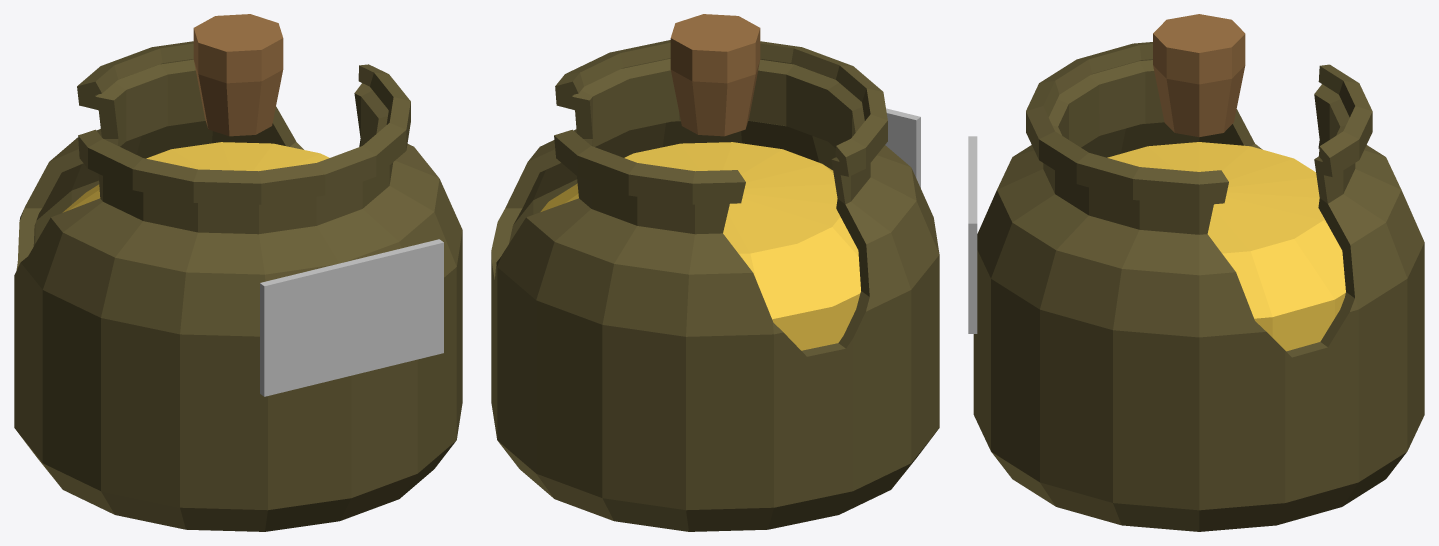
File: dry_ether.obj
3 renders of one model, left to right at view 1: azimuth 30°, elevation 25°; view 2: azimuth 150°, elevation 25°; view 3: azimuth 270°, elevation 25°, orthographic.
Visible parts, largest first — view 1: A_Flask.001_dry_ether_glass, C_Label.001_dry_ether_label, S_Cork.001_dry_ether_cork, A_Liquid.001_dry_ether_liquid; view 2: A_Flask.001_dry_ether_glass, A_Liquid.001_dry_ether_liquid, S_Cork.001_dry_ether_cork, C_Label.001_dry_ether_label; view 3: A_Flask.001_dry_ether_glass, A_Liquid.001_dry_ether_liquid, S_Cork.001_dry_ether_cork, C_Label.001_dry_ether_label.
Boxes of the visible parts, x1,y1,x2,y2 form: A_Flask.001_dry_ether_glass: [14, 41, 462, 531]; C_Label.001_dry_ether_label: [260, 239, 443, 396]; S_Cork.001_dry_ether_cork: [193, 14, 283, 136]; A_Liquid.001_dry_ether_liquid: [62, 142, 329, 212]; A_Flask.001_dry_ether_glass: [491, 40, 939, 531]; A_Liquid.001_dry_ether_liquid: [540, 142, 860, 350]; S_Cork.001_dry_ether_cork: [670, 14, 760, 136]; C_Label.001_dry_ether_label: [885, 108, 920, 187]; A_Flask.001_dry_ether_glass: [973, 42, 1424, 531]; A_Liquid.001_dry_ether_liquid: [1107, 142, 1345, 351]; S_Cork.001_dry_ether_cork: [1153, 14, 1245, 137]; C_Label.001_dry_ether_label: [968, 136, 977, 333].
Bounding box in the file's own units: 1.48 × 1.5 × 1.5.
